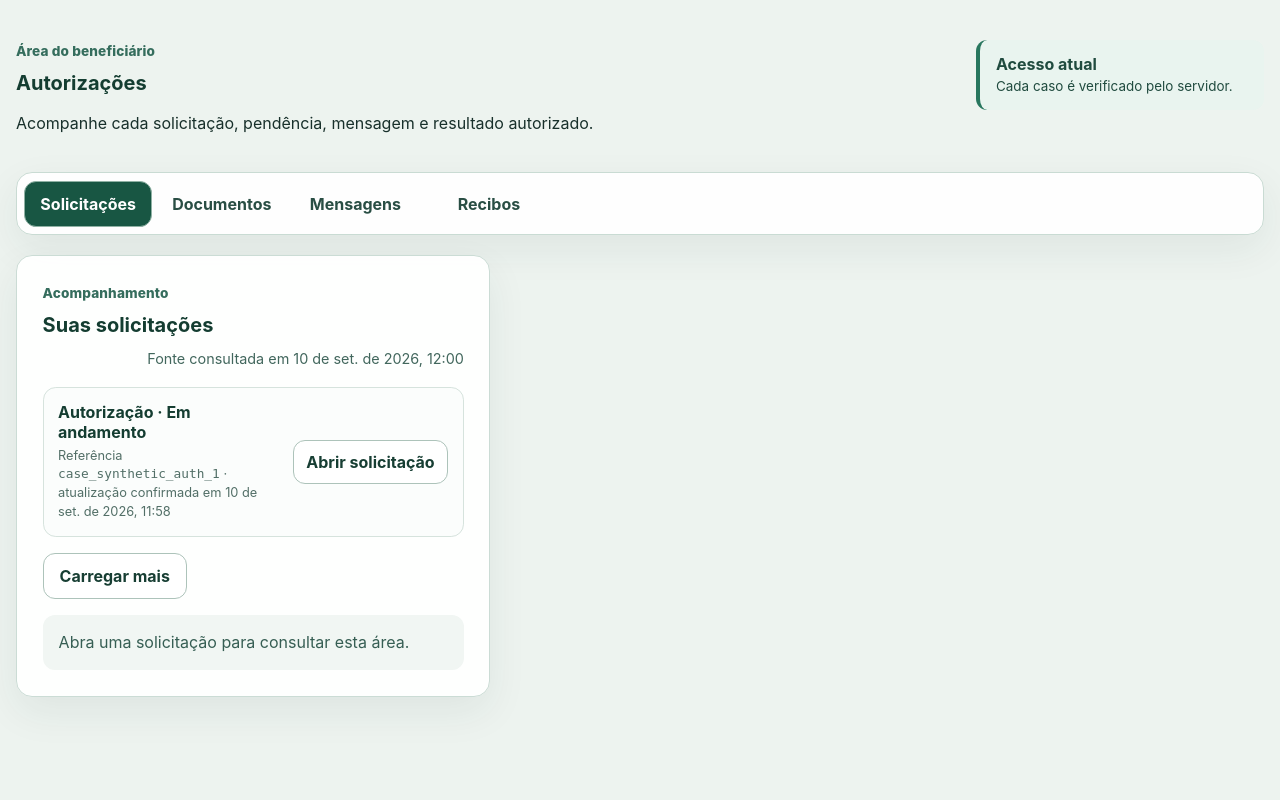
Test: remove todo detalhe protegido após paginação access-revoked sem depender do pai
The width and height of the screenshot is (1280, 800).
Expected: the heading "Autorização · Em andamento" is shown, [58, 402, 191, 442]
Click the tab "Documentos" at (222, 204), box [158, 181, 286, 227]
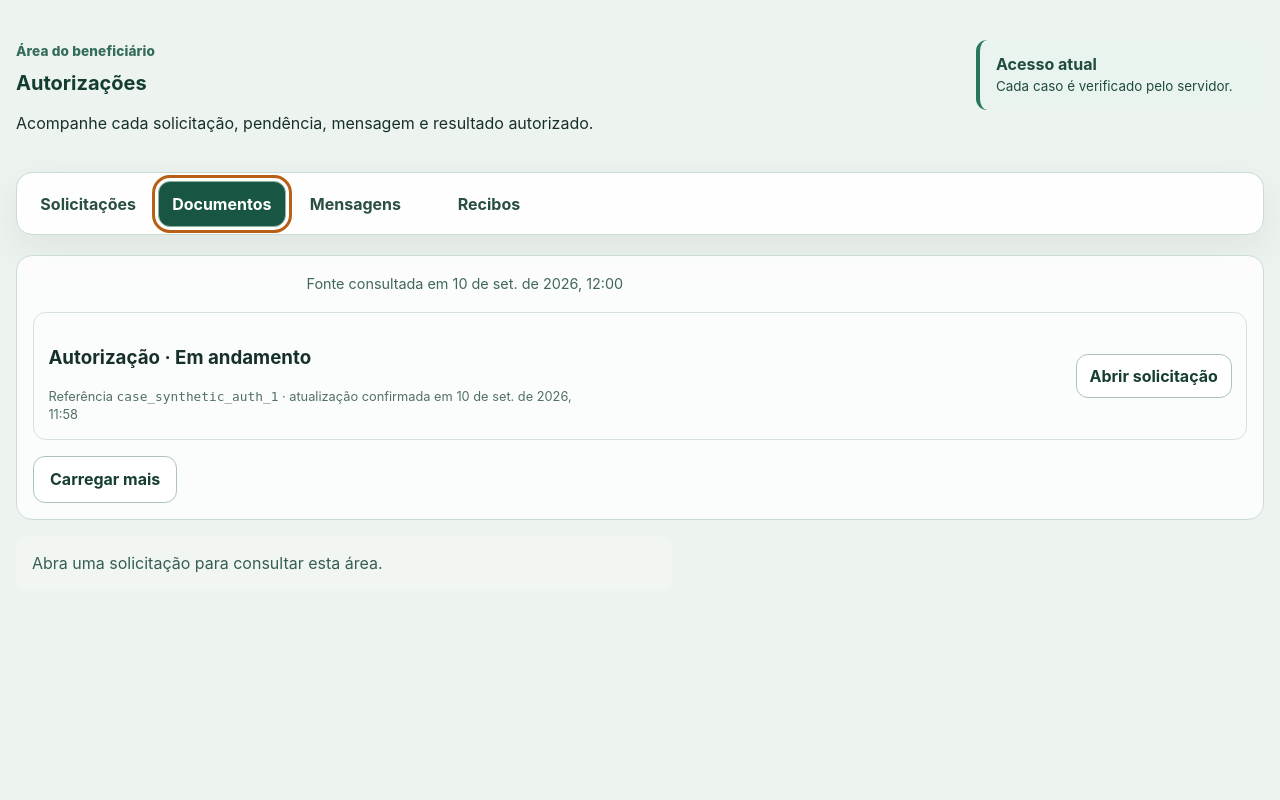
Click the button "Abrir solicitação" at (1154, 376), box [1076, 354, 1232, 398]
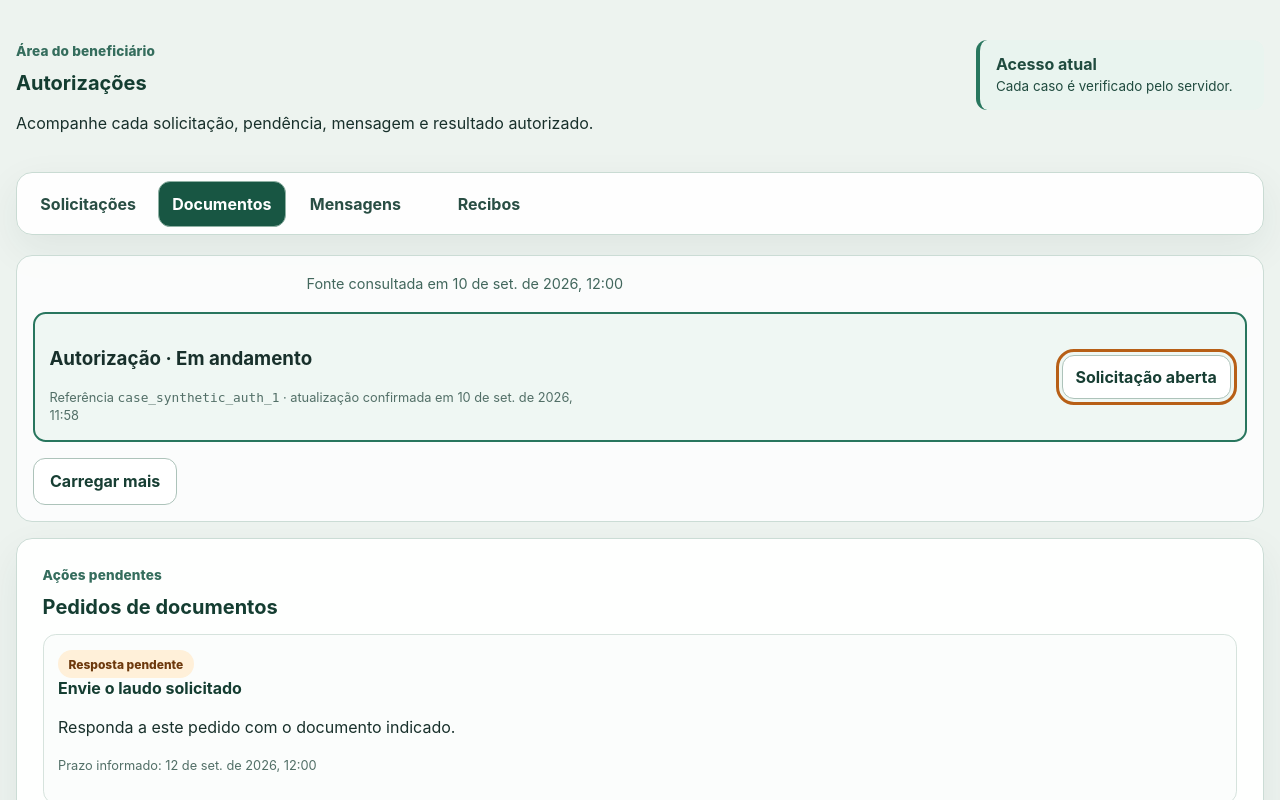
Now the heading "Envie o laudo solicitado" is shown, box [58, 678, 242, 698]
Click the button "Carregar mais" at (105, 482), box [33, 458, 177, 505]
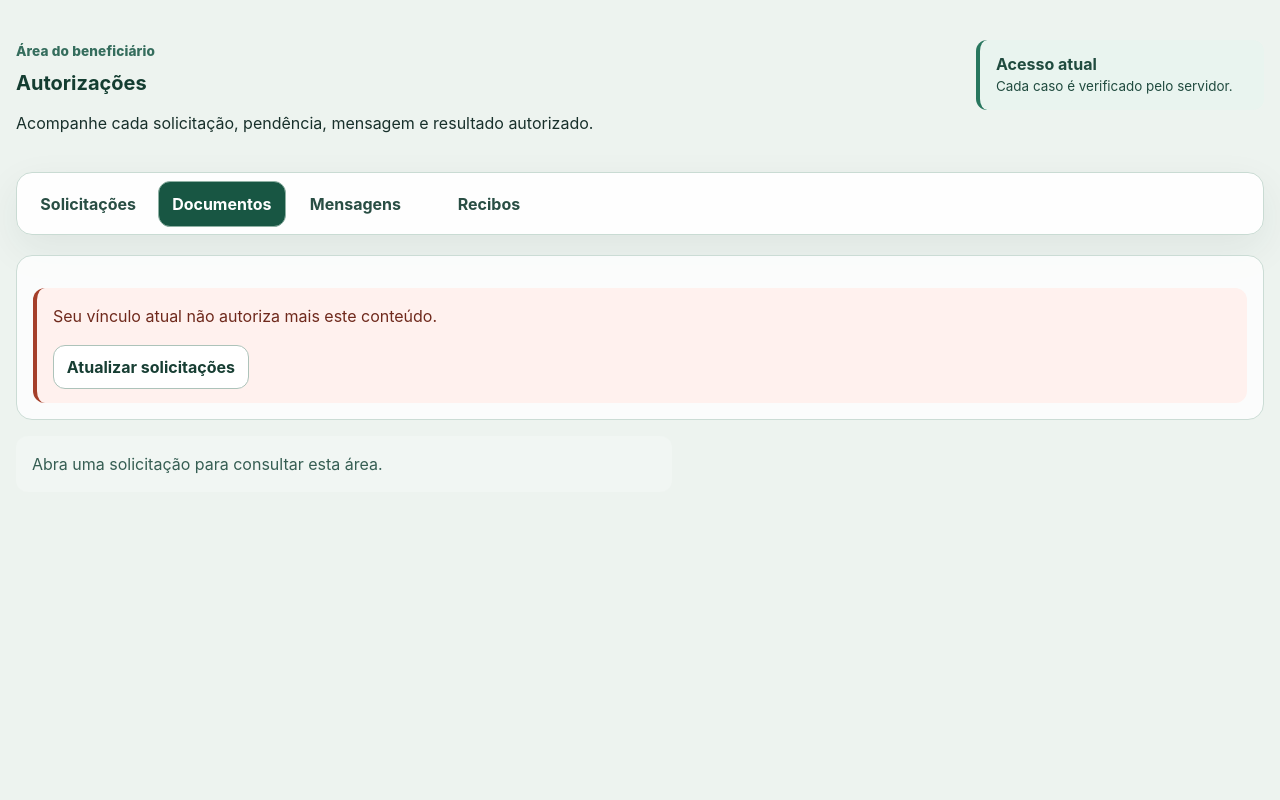
Now the message "Seu vínculo atual não autoriza mais este conteúdo." is shown, box [53, 306, 437, 326]
Now the heading "Envie o laudo solicitado" is gone
